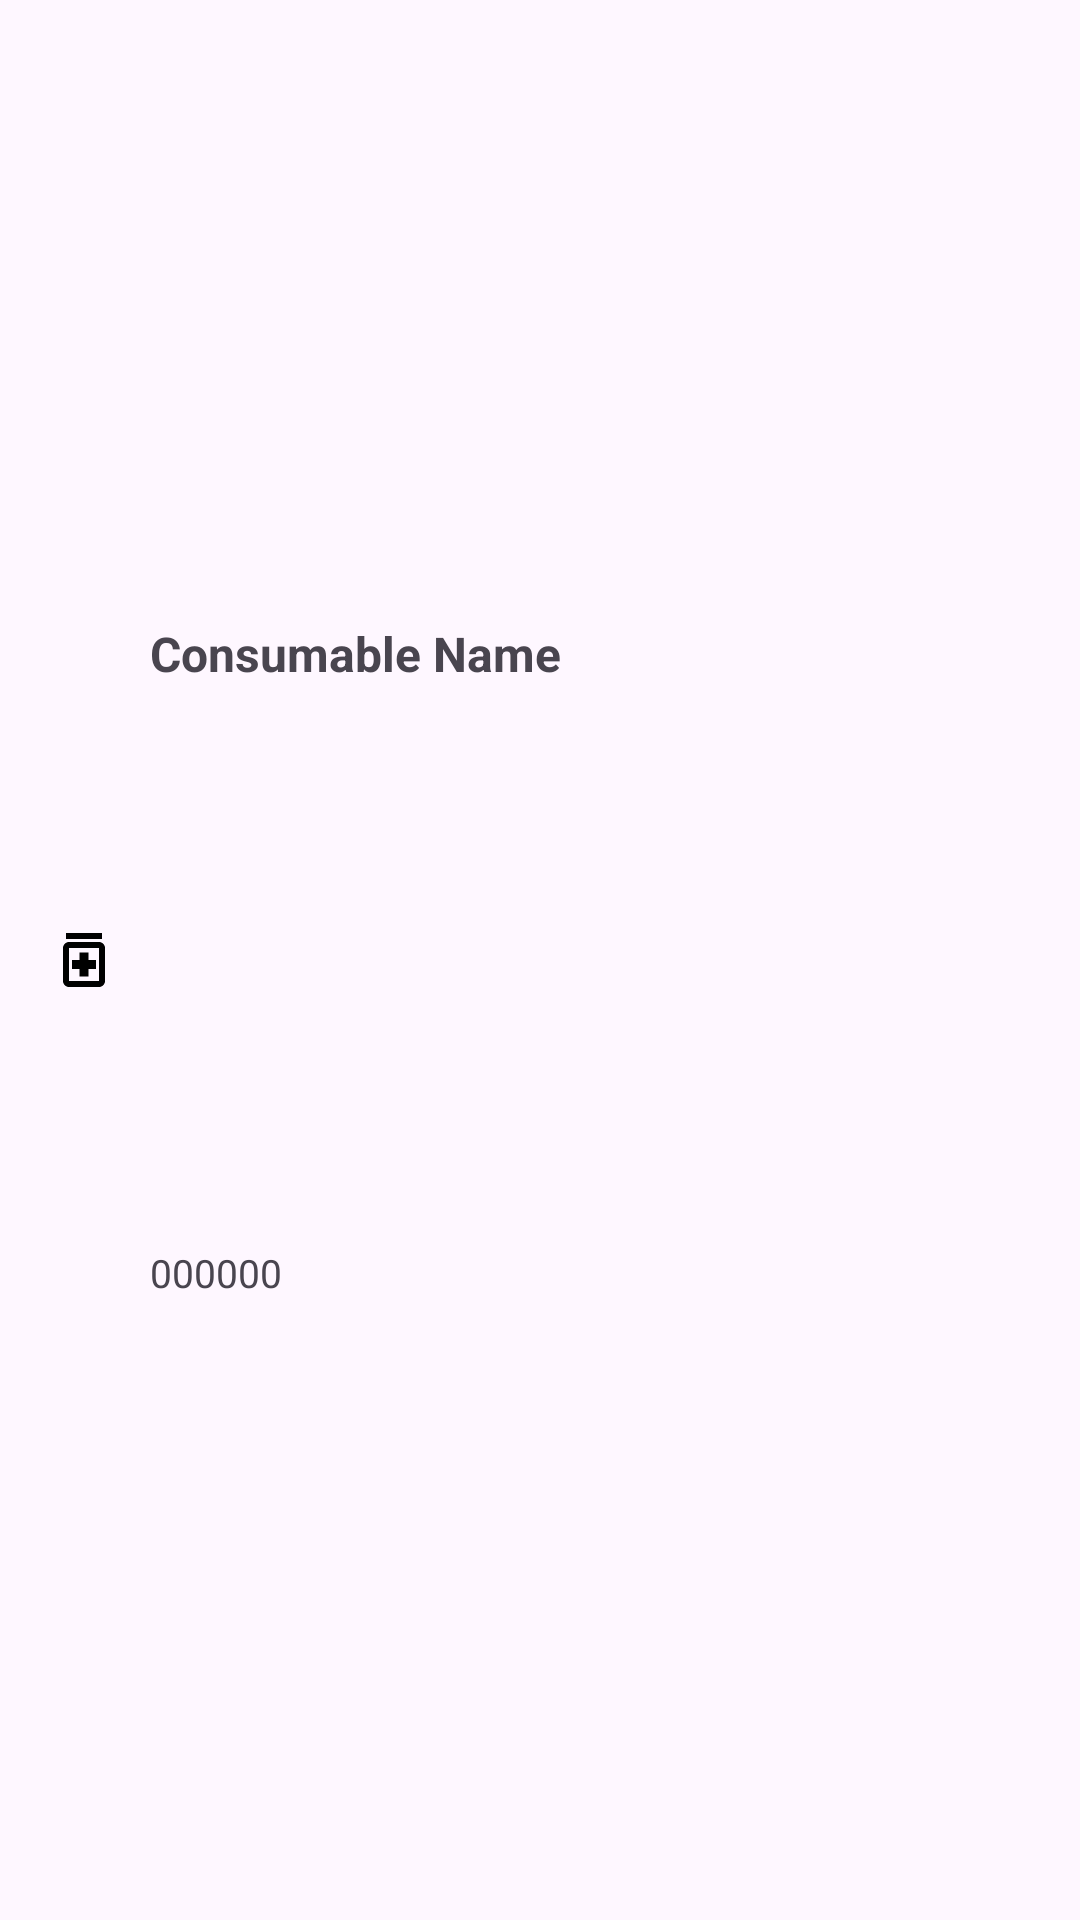

Named icons in this screenshot (1080px x 1920px) and their centers, (x,y):
medication: (84,960)
